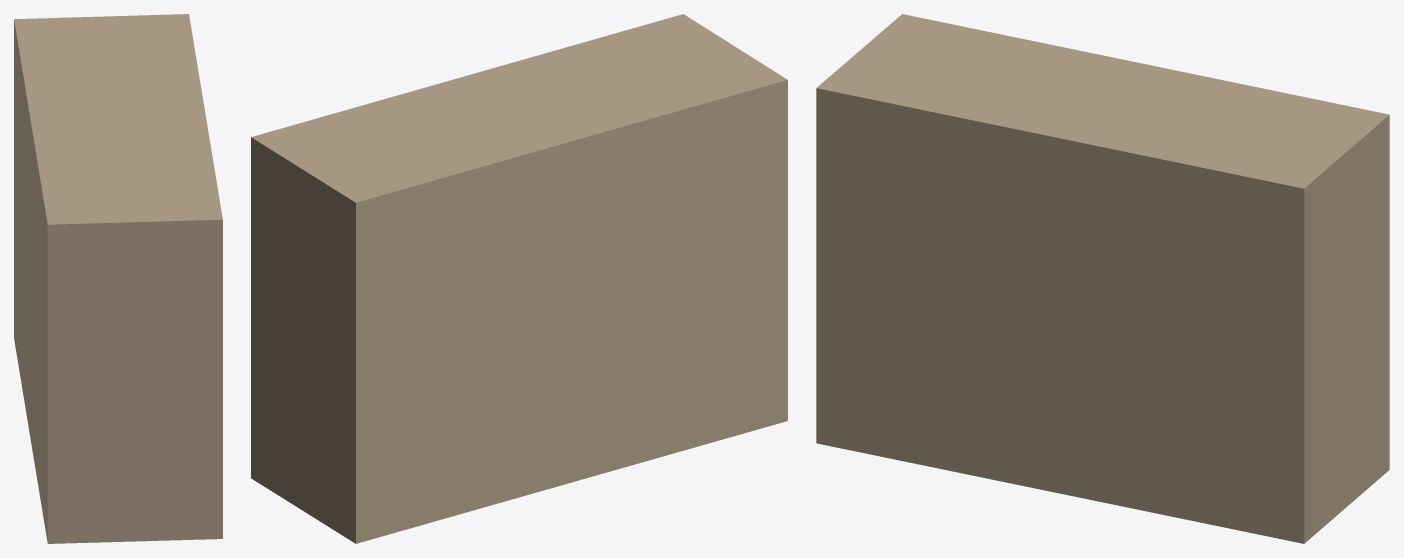
File: bld_99520003.dae
3 views of the same model, side by side, from view 1: azimuth 30°, elevation 25°; view 2: azimuth 150°, elevation 25°; view 3: azimuth 270°, elevation 25° (orthographic). The views are drawn at different scales.
Parts seen in each view (by area): view 1: bld_99520003; view 2: bld_99520003; view 3: bld_99520003.
Boxes of the visible parts, box(x1,y1,x2,y2) form: bld_99520003: box(14, 14, 222, 543); bld_99520003: box(251, 14, 787, 543); bld_99520003: box(816, 14, 1389, 543).
Size of the model in its own units: 8.44 by 11.7 by 8.
